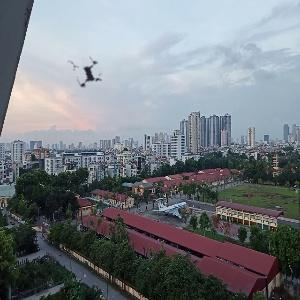drone: (54, 37, 127, 110)
